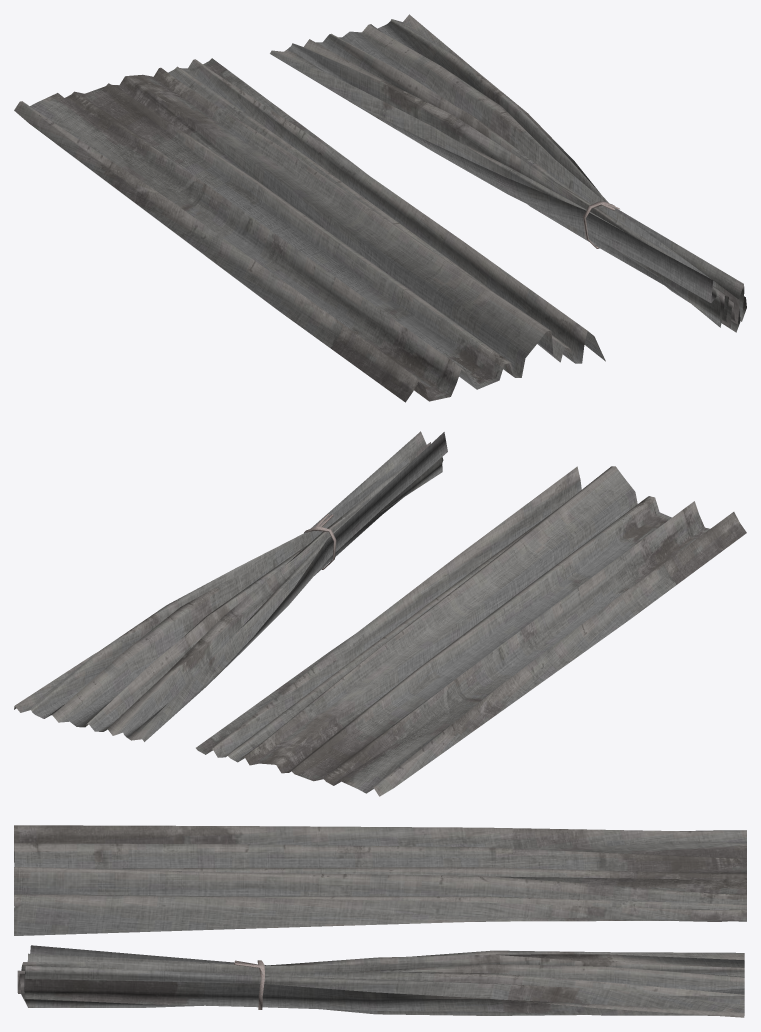
File: curtain.fbx
The picture shows the model from 3 angles, top to bottom: view 1: azimuth 30°, elevation 25°; view 2: azimuth 150°, elevation 25°; view 3: azimuth 270°, elevation 25°; orthographic projection. The views are drawn at different scales.
Visible parts, largest first — view 1: Curtain_01, Curtain_02; view 2: Curtain_01, Curtain_02; view 3: Curtain_01, Curtain_02.
Part boxes in pixels (bbox=[...]): Curtain_01: bbox=[14, 58, 605, 402]; Curtain_02: bbox=[270, 14, 746, 332]; Curtain_01: bbox=[196, 466, 746, 796]; Curtain_02: bbox=[14, 431, 447, 741]; Curtain_01: bbox=[14, 825, 746, 935]; Curtain_02: bbox=[17, 945, 744, 1017].
Bounding box in the file's own units: 163 × 23.94 × 280.
1 material, 1 textured.
